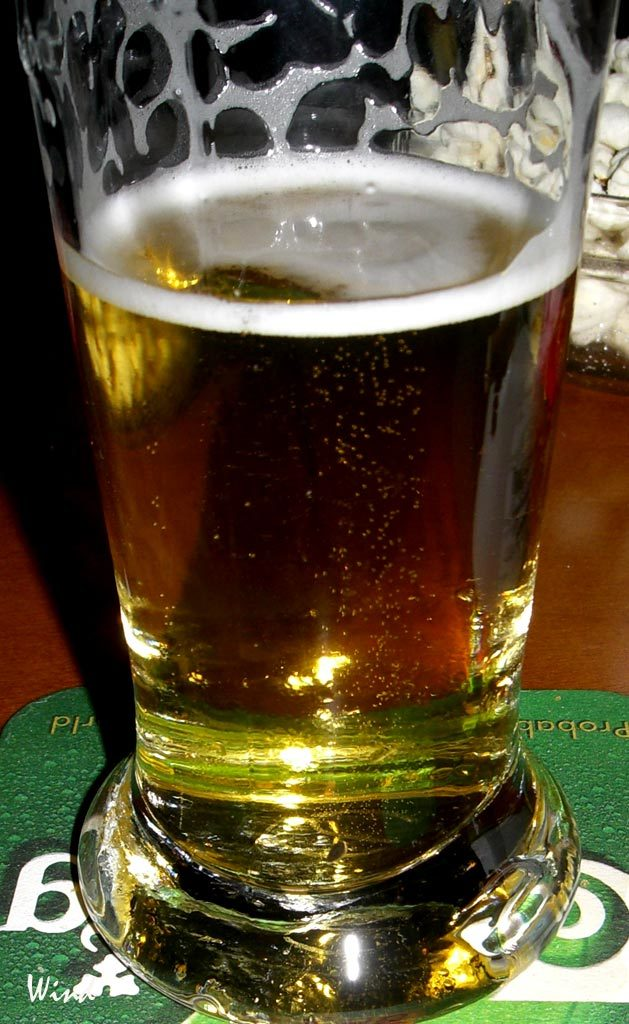Beer: (14, 0, 619, 1024)
